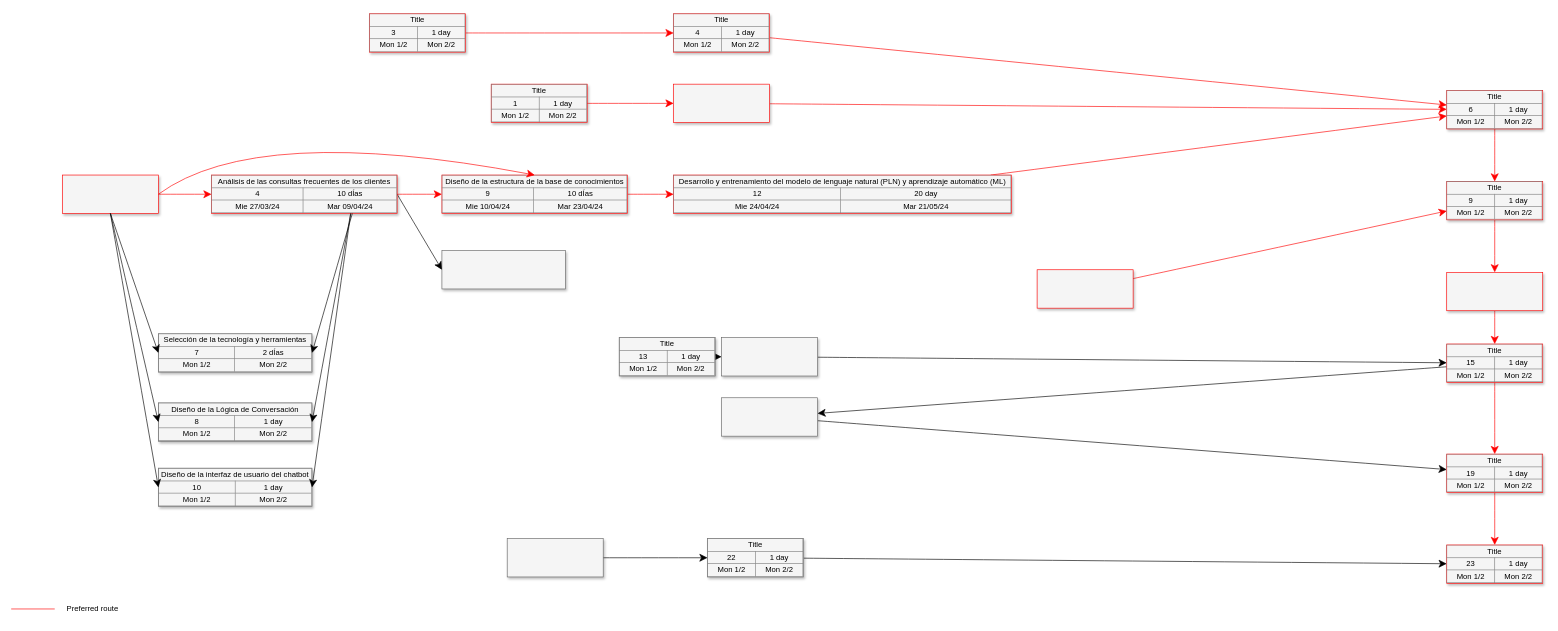
The diagram is 1558 pixels wide and 631 high, and some of its shapes have lost their labels. Each missing label, with the centre of its shape:
"Identificación de las integraciones 5 5 dÍas Mie 10/04/24 Mar 16/04/24" goes at (x=504, y=270).
"Reuniones con el equipo 3 7 dÍas Lun 18/03/24 Mar 26/03/24" goes at (x=110, y=195).
"Title 10 1 day Mon 1/2 Mon 2/2" goes at (x=1085, y=290).
"Title 11 1 day Mon 1/2 Mon 2/2" goes at (x=1495, y=292).
"Title 14 1 day Mon 1/2 Mon 2/2" goes at (x=769, y=357).
"Title 17 1 day Mon 1/2 Mon 2/2" goes at (x=769, y=418).
"Title 21 1 day Mon 1/2 Mon 2/2" goes at (x=555, y=558).
"Title 5 1 day Mon 1/2 Mon 2/2" goes at (x=721, y=104).
